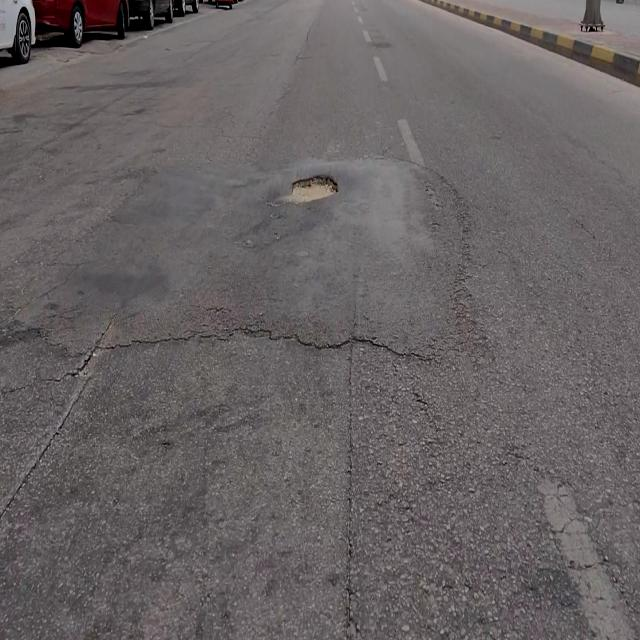Potholes: (290, 173, 339, 205)
